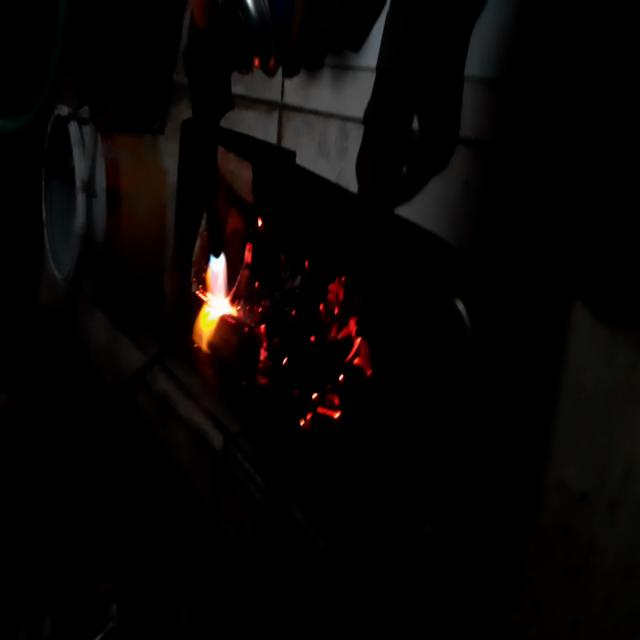Fire: (252, 233, 376, 442), (188, 233, 244, 357)
